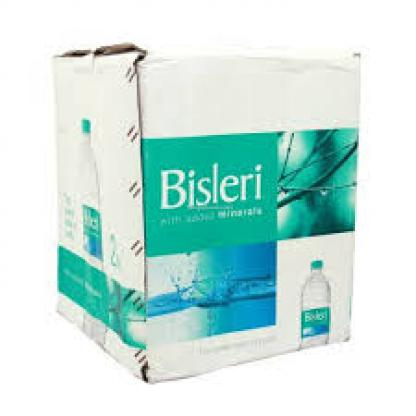CARDBOARD: (50, 42, 359, 381)
